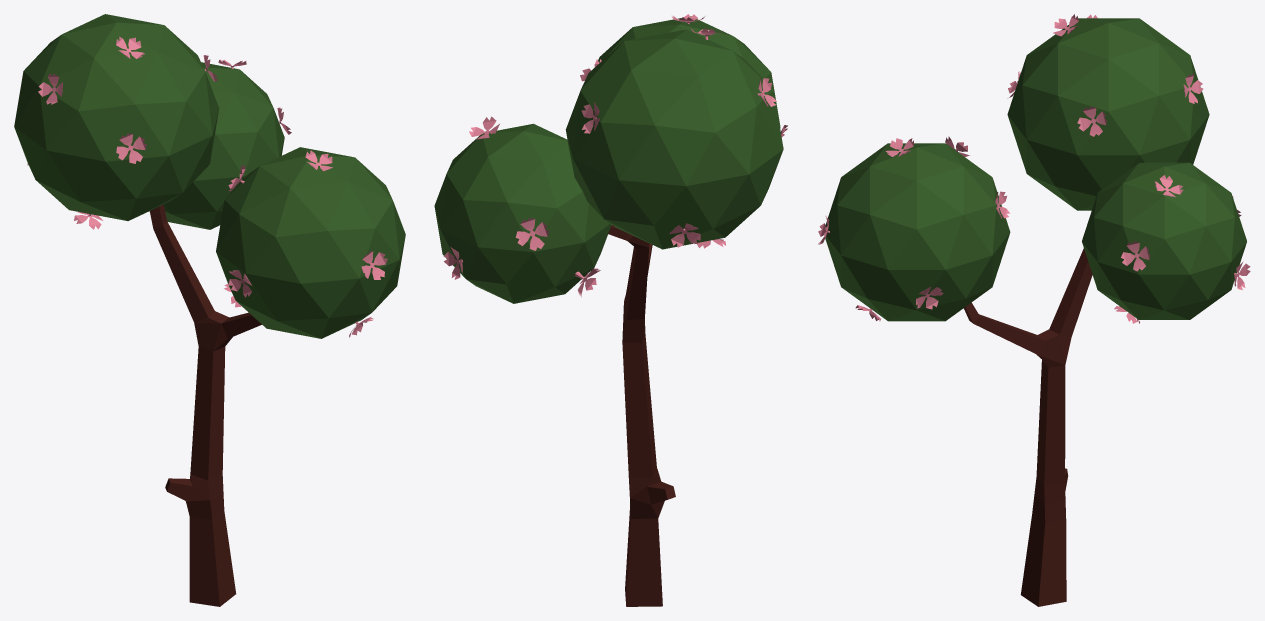
The model's file is TEX_cherry_tree_bloom.fbx.
The picture shows the model from 3 angles, left to right: view 1: azimuth 30°, elevation 25°; view 2: azimuth 150°, elevation 25°; view 3: azimuth 270°, elevation 25°; orthographic projection. The views are drawn at different scales.
Visible parts, largest first — view 1: F_cherry_tree_bloom; view 2: F_cherry_tree_bloom; view 3: F_cherry_tree_bloom.
Boxes of the visible parts, <box> form: F_cherry_tree_bloom: <box>14,14,405,606</box>; F_cherry_tree_bloom: <box>434,14,787,606</box>; F_cherry_tree_bloom: <box>818,14,1250,606</box>.
Size of the model in its own units: 144 by 284 by 203.
1 material, 1 textured.
